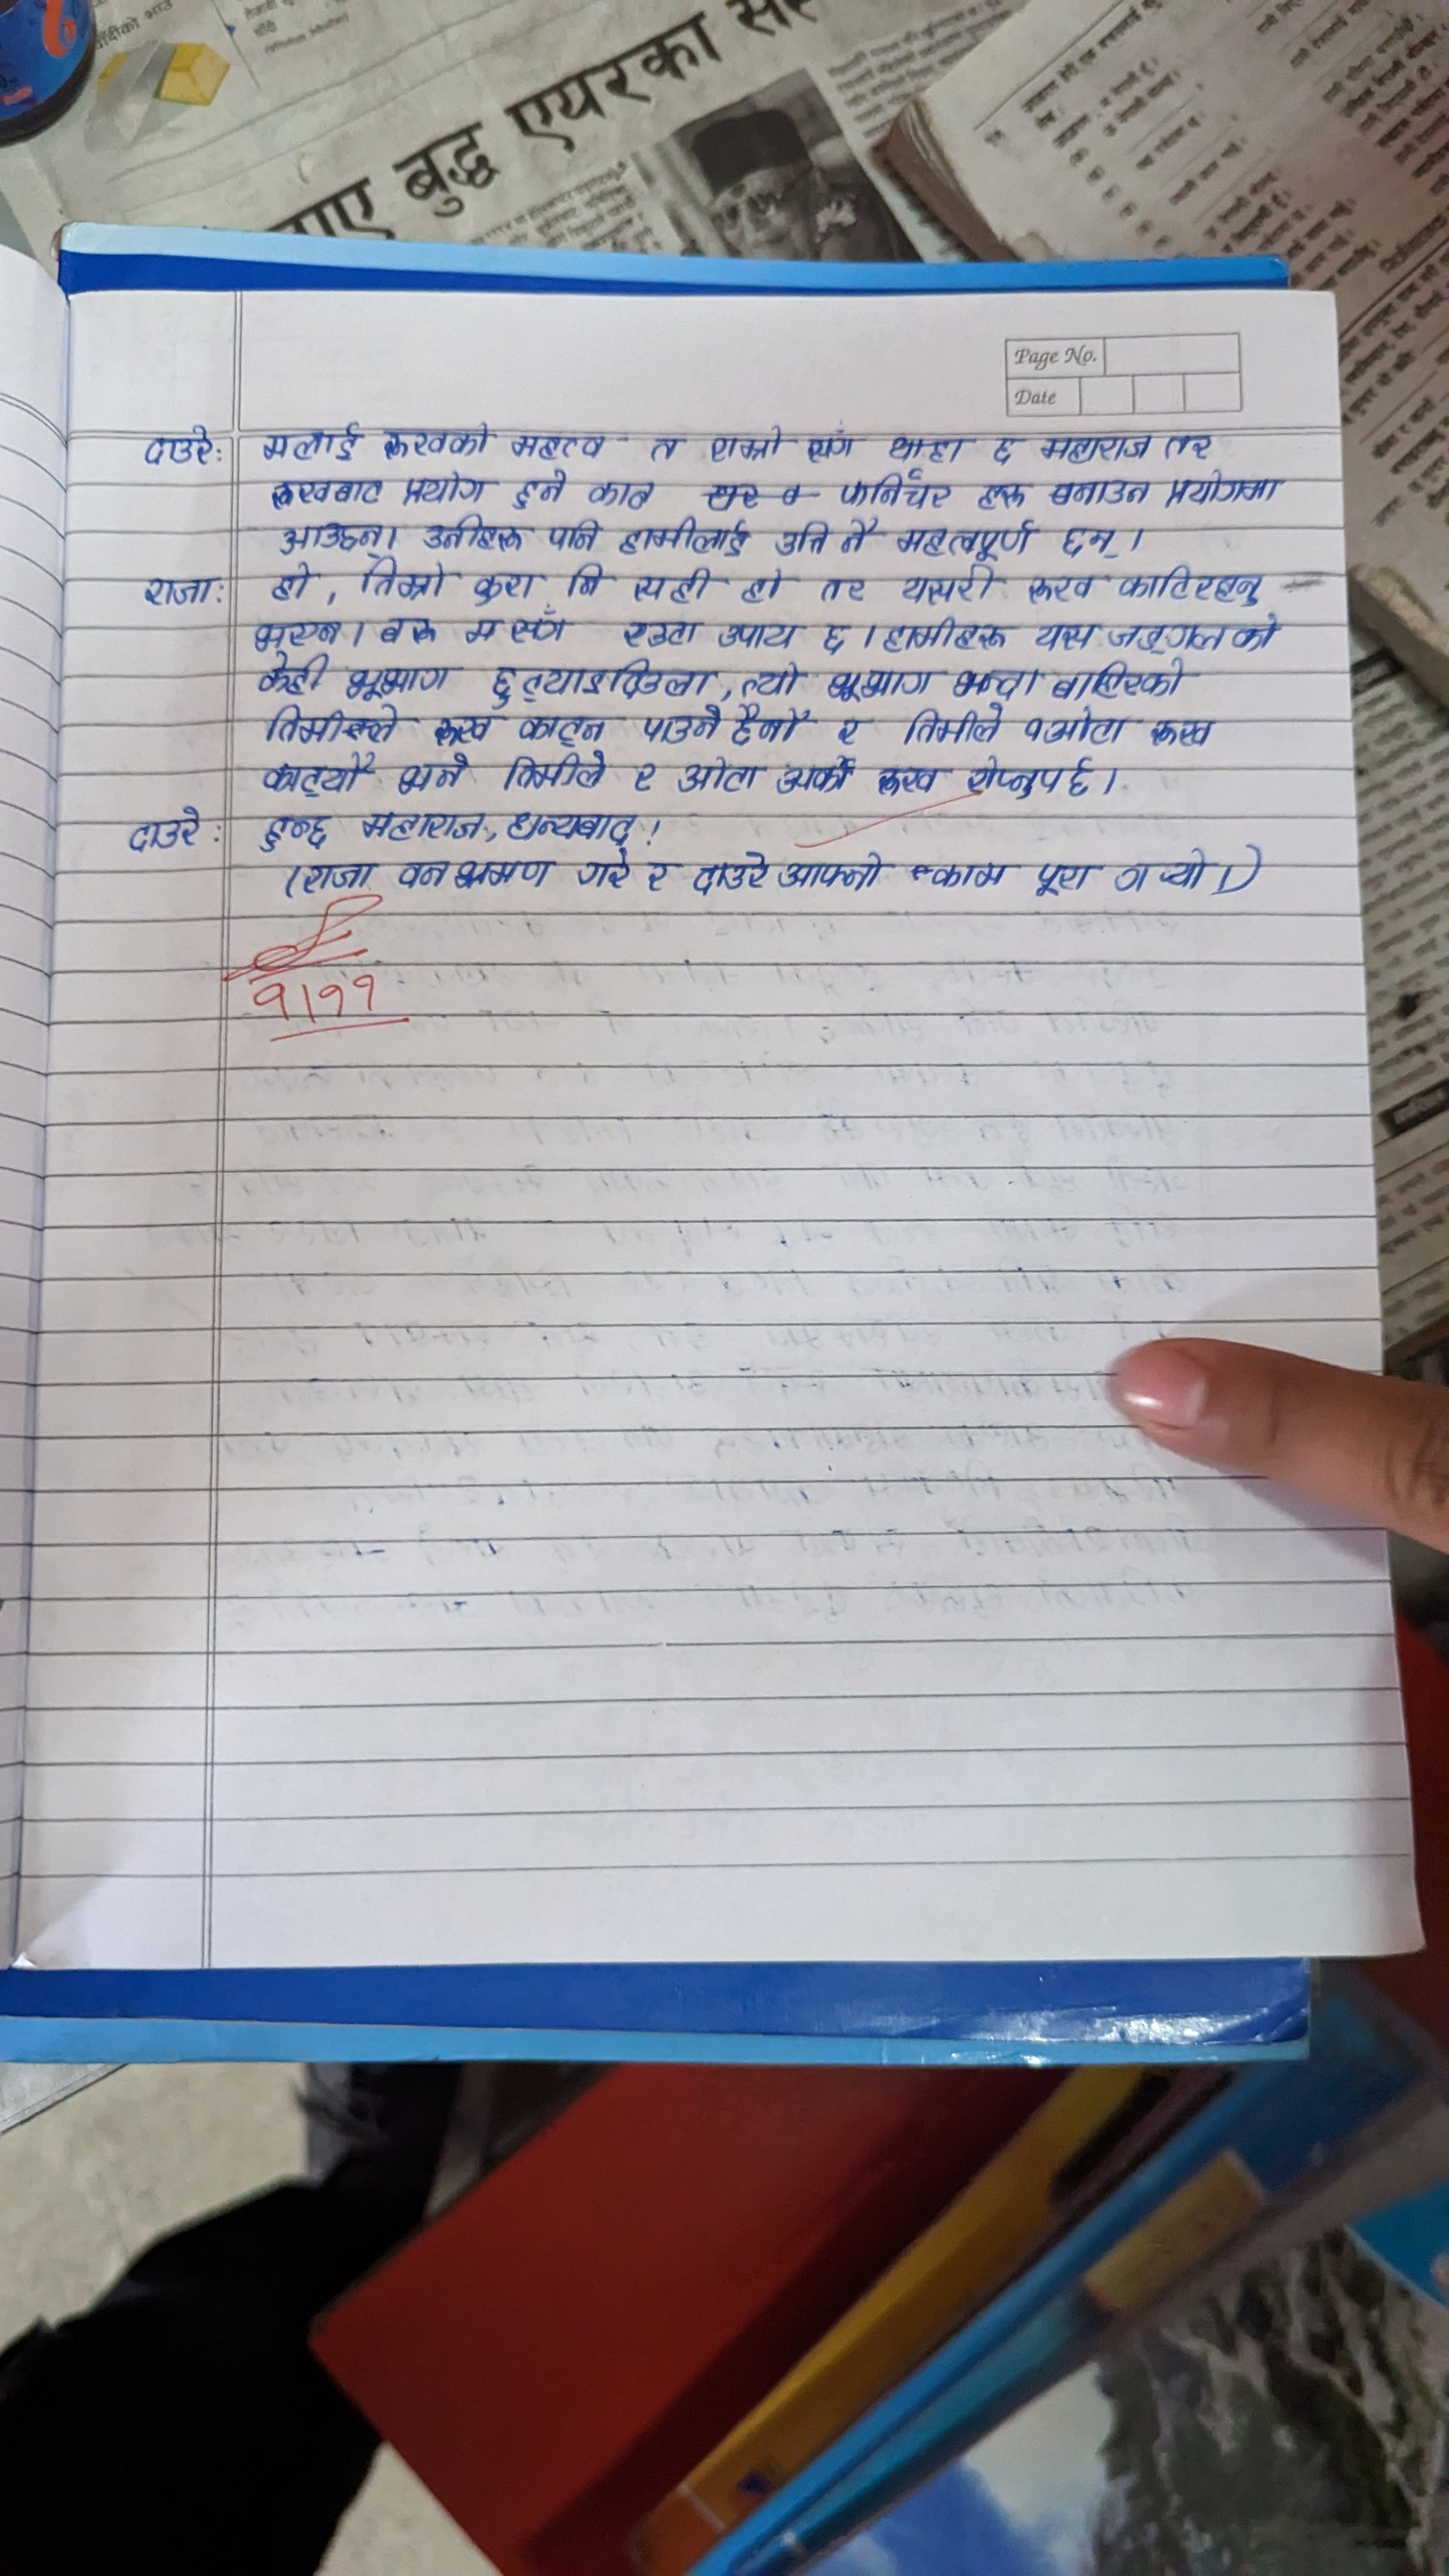text: (479, 653, 713, 699), (101, 782, 212, 856), (962, 754, 1104, 807), (1106, 614, 1288, 655), (1111, 839, 1224, 902), (119, 561, 237, 619), (775, 847, 895, 901), (257, 701, 400, 745), (253, 412, 366, 467), (1118, 563, 1270, 603), (1164, 469, 1295, 515), (892, 520, 1033, 563), (253, 750, 379, 798), (375, 412, 492, 464), (1049, 660, 1189, 701), (614, 515, 747, 557), (134, 412, 219, 478), (265, 517, 396, 559), (879, 614, 1010, 655), (837, 469, 957, 513), (262, 471, 386, 511), (506, 807, 640, 844), (453, 851, 556, 899), (499, 748, 614, 791), (901, 701, 1007, 747), (354, 807, 490, 842), (895, 563, 1003, 605), (692, 847, 771, 904), (340, 660, 453, 699), (506, 423, 609, 465), (414, 513, 525, 552), (1035, 428, 1152, 465), (354, 561, 455, 603), (672, 752, 764, 798), (511, 709, 619, 748), (248, 807, 338, 853), (701, 423, 786, 471), (931, 847, 1010, 895), (824, 665, 934, 699), (773, 754, 856, 798), (1016, 568, 1106, 609), (1028, 855, 1099, 906), (1047, 474, 1154, 508), (393, 754, 476, 796), (626, 563, 709, 605), (727, 704, 807, 748), (248, 614, 347, 649), (398, 471, 490, 508), (948, 663, 1039, 701), (258, 649, 327, 697), (639, 704, 722, 743), (1047, 708, 1131, 747), (1053, 520, 1129, 563), (303, 856, 375, 901), (584, 471, 662, 511), (469, 566, 543, 609), (1146, 711, 1221, 752), (872, 763, 947, 803), (619, 617, 706, 651), (885, 426, 962, 464), (571, 847, 633, 893), (713, 617, 807, 648), (738, 660, 805, 701), (510, 469, 573, 511), (510, 609, 580, 646), (1033, 614, 1095, 656), (423, 708, 492, 745), (372, 609, 441, 646), (801, 421, 856, 467), (771, 520, 830, 559), (816, 573, 872, 612), (267, 561, 318, 603), (543, 517, 603, 552), (738, 566, 787, 609), (398, 856, 453, 893), (971, 476, 1028, 511), (639, 858, 683, 901), (1162, 426, 1215, 462), (642, 428, 685, 469), (566, 561, 607, 602), (826, 711, 869, 750), (840, 517, 876, 557), (464, 616, 504, 649), (819, 621, 855, 658), (630, 759, 660, 798), (1017, 708, 1042, 750), (991, 428, 1017, 465)
